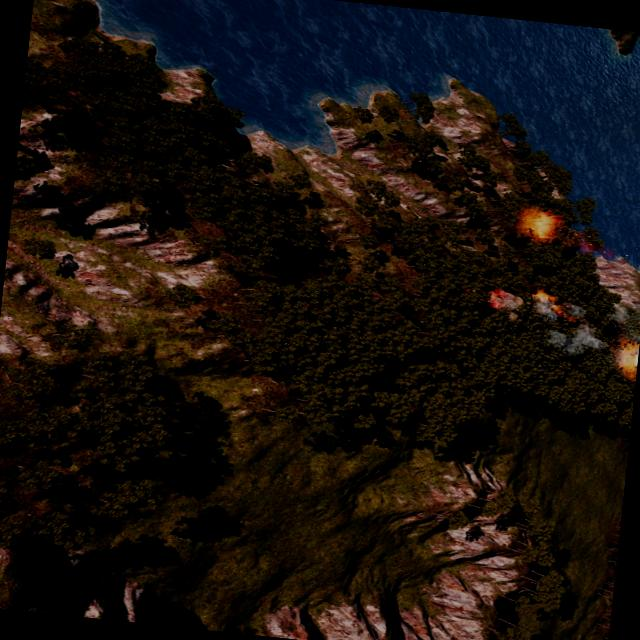fire: (522, 210, 557, 242), (618, 338, 640, 372), (483, 288, 505, 310), (531, 290, 553, 304)
smoke: (482, 283, 613, 358), (542, 320, 608, 358), (482, 286, 524, 332)
